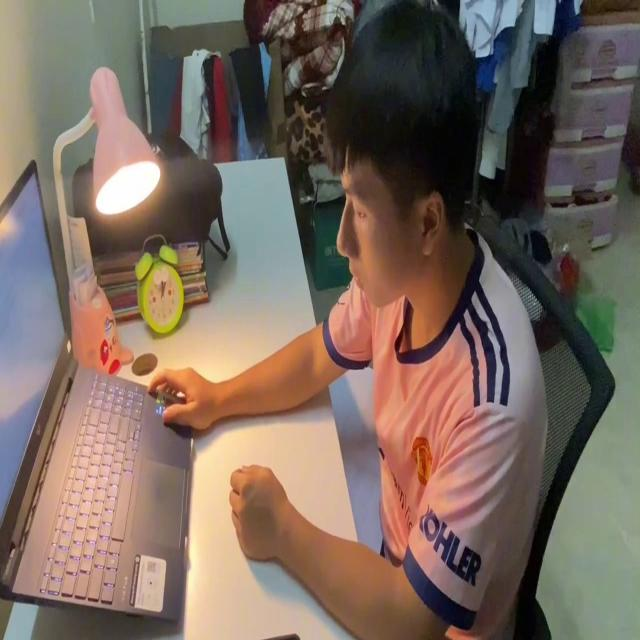book: (325, 356, 389, 560)
laptop: (3, 159, 195, 626)
student: (149, 0, 547, 640)
